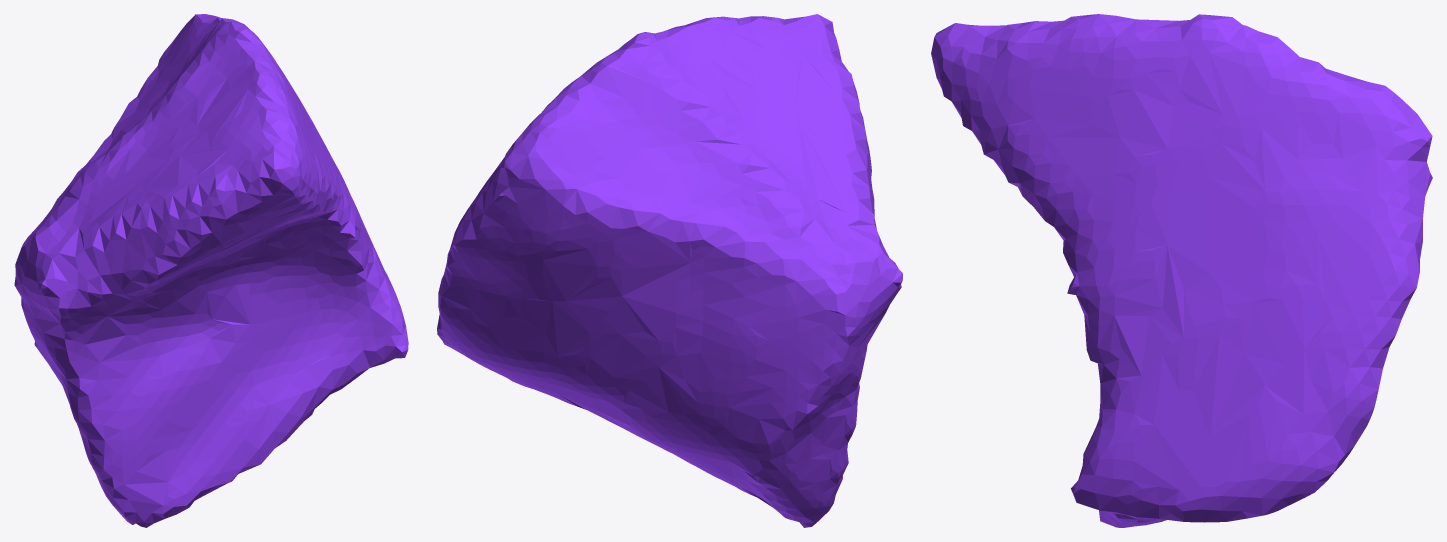
The model's file is Model_37_RH__Area_6_of_cortex__ventral__part_b_(A6Vb).obj.
3 views of the same model, side by side, from view 1: azimuth 30°, elevation 25°; view 2: azimuth 150°, elevation 25°; view 3: azimuth 270°, elevation 25° (orthographic). The views are drawn at different scales.
Bounding box in the file's own units: 2.62 × 2.99 × 2.35.
